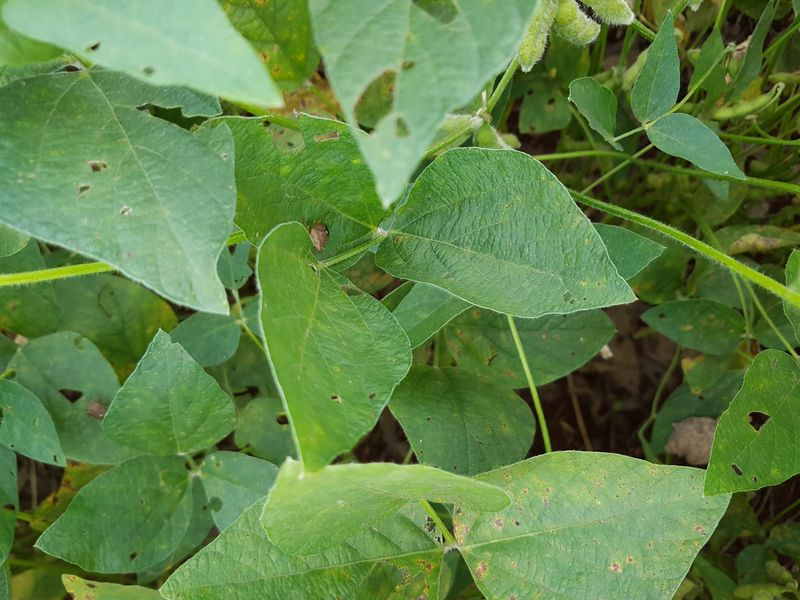Euschistus_heros_adulto: (301, 215, 338, 254), (79, 395, 113, 425)
